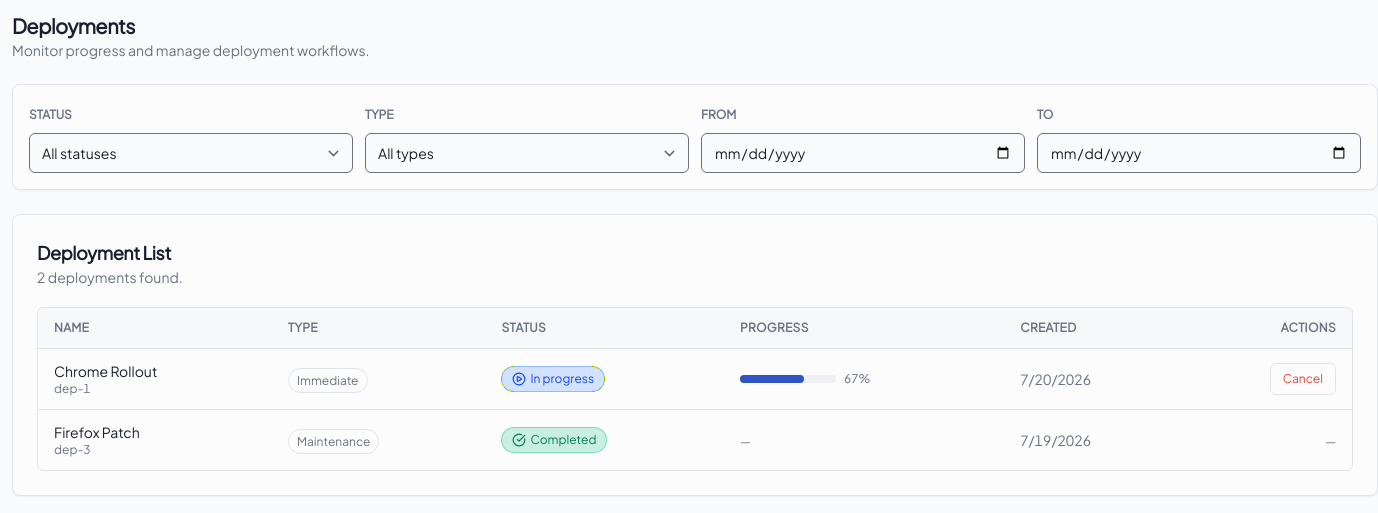
DeploymentList › filters client-side on canonical status values
Expected: the text "Chrome Rollout" is shown, [54,362,157,380]
Select "Completed" in the dropdown with test id "deployment-status-filter": (191, 153) [29,133,353,173]
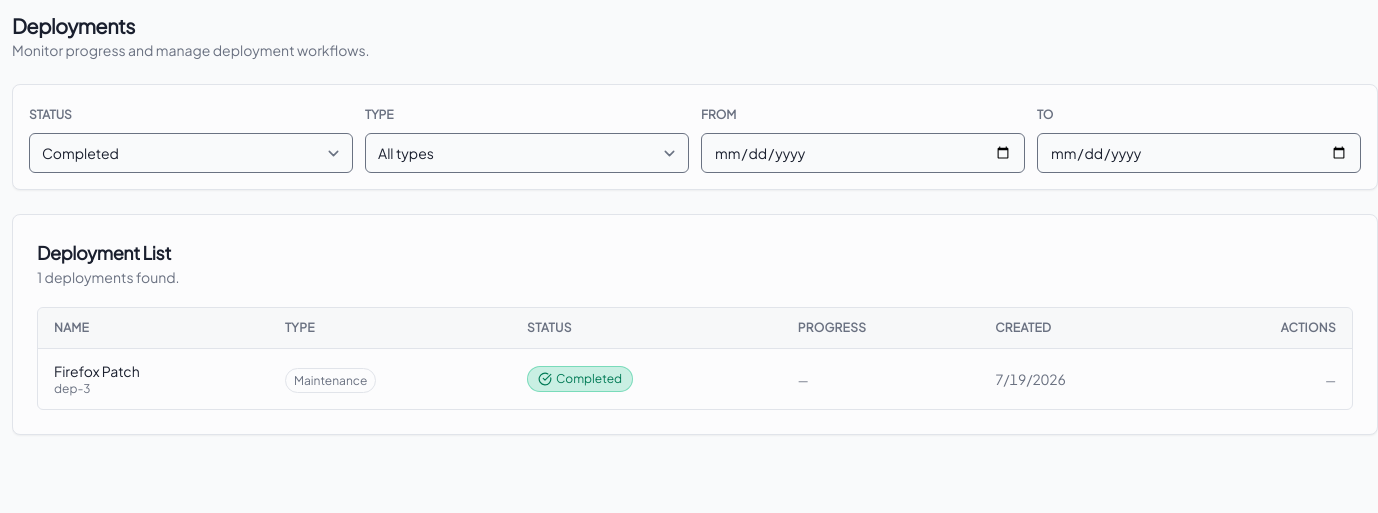
Expected: the text "Firefox Patch" is shown, [54,362,140,380]
Now the text "Chrome Rollout" is gone
